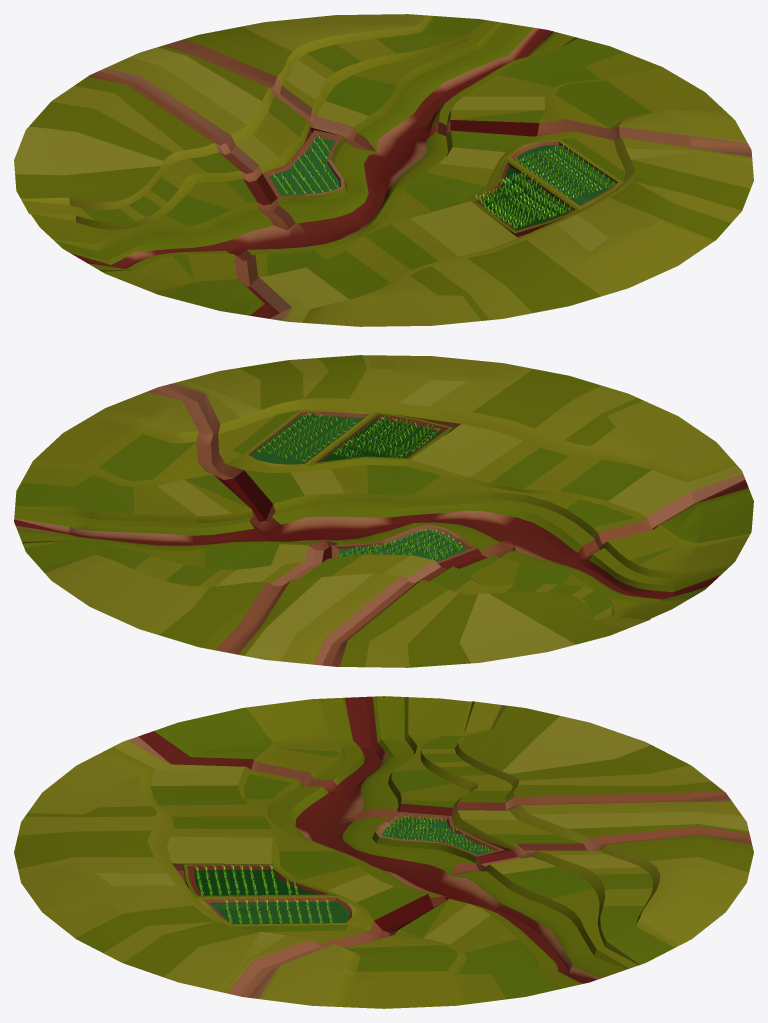
File: SM_BlockoutAgricultureTerrain_01.fbx
The picture shows the model from 3 angles, top to bottom: view 1: azimuth 30°, elevation 25°; view 2: azimuth 150°, elevation 25°; view 3: azimuth 270°, elevation 25°; orthographic projection.
Visible parts, largest first — view 1: Terrain_Base, Addon_03, Addon_02, Addon_04, Addon_01; view 2: Terrain_Base, Addon_03, Addon_02, Addon_04, Addon_01; view 3: Terrain_Base, Addon_03, Addon_02, Addon_04, Addon_01.
Part boxes in pixels (x1,y1,x2,y2): Terrain_Base: (14, 14, 753, 326); Addon_03: (465, 133, 623, 236); Addon_02: (262, 130, 347, 205); Addon_04: (446, 96, 544, 135); Addon_01: (379, 181, 463, 226); Terrain_Base: (14, 355, 753, 667); Addon_03: (226, 409, 453, 472); Addon_02: (331, 525, 477, 563); Addon_04: (157, 475, 259, 522); Addon_01: (391, 466, 491, 502); Terrain_Base: (14, 696, 753, 1008); Addon_03: (183, 863, 373, 930); Addon_02: (372, 811, 505, 862); Addon_04: (392, 898, 490, 944); Addon_01: (273, 829, 346, 866).
Bounding box in the file's own units: 4821 × 298 × 4821.
